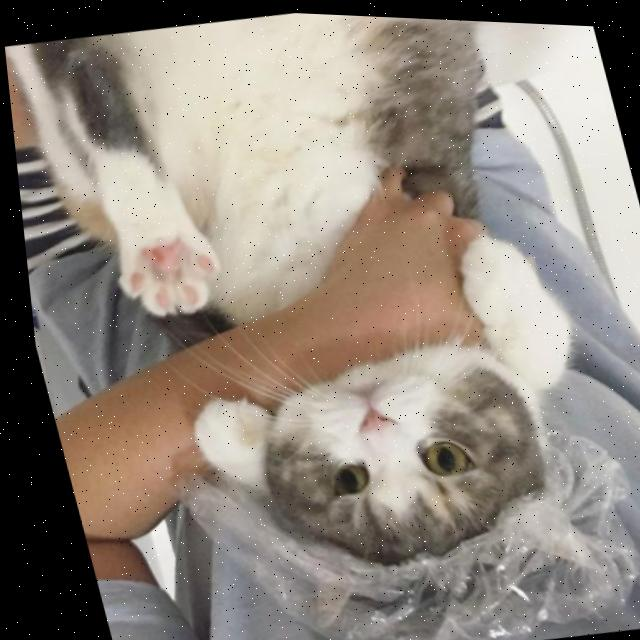Cats: (0, 0, 619, 620)
